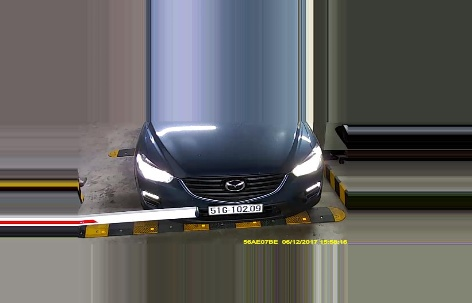plate: (207, 200, 264, 213)
